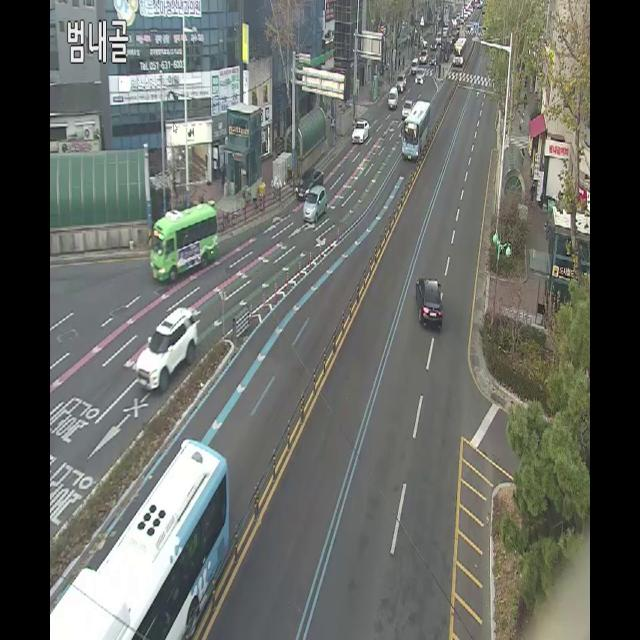car: (50, 435, 231, 640), (150, 202, 220, 281), (401, 98, 431, 161)
motorcycle: (136, 302, 198, 394), (416, 274, 444, 333), (302, 183, 329, 224), (351, 116, 371, 146)
